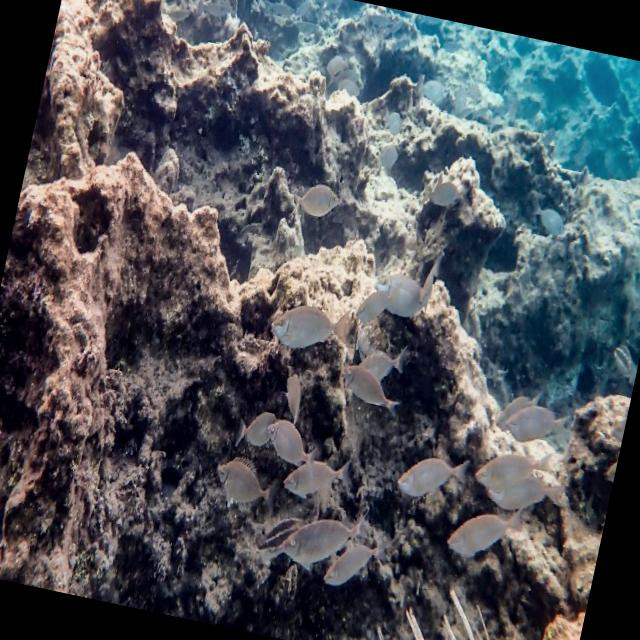Sokar Baligi: (257, 282, 360, 371), (482, 380, 588, 459), (330, 351, 410, 426), (278, 438, 360, 511), (286, 172, 346, 232), (414, 170, 469, 217)
